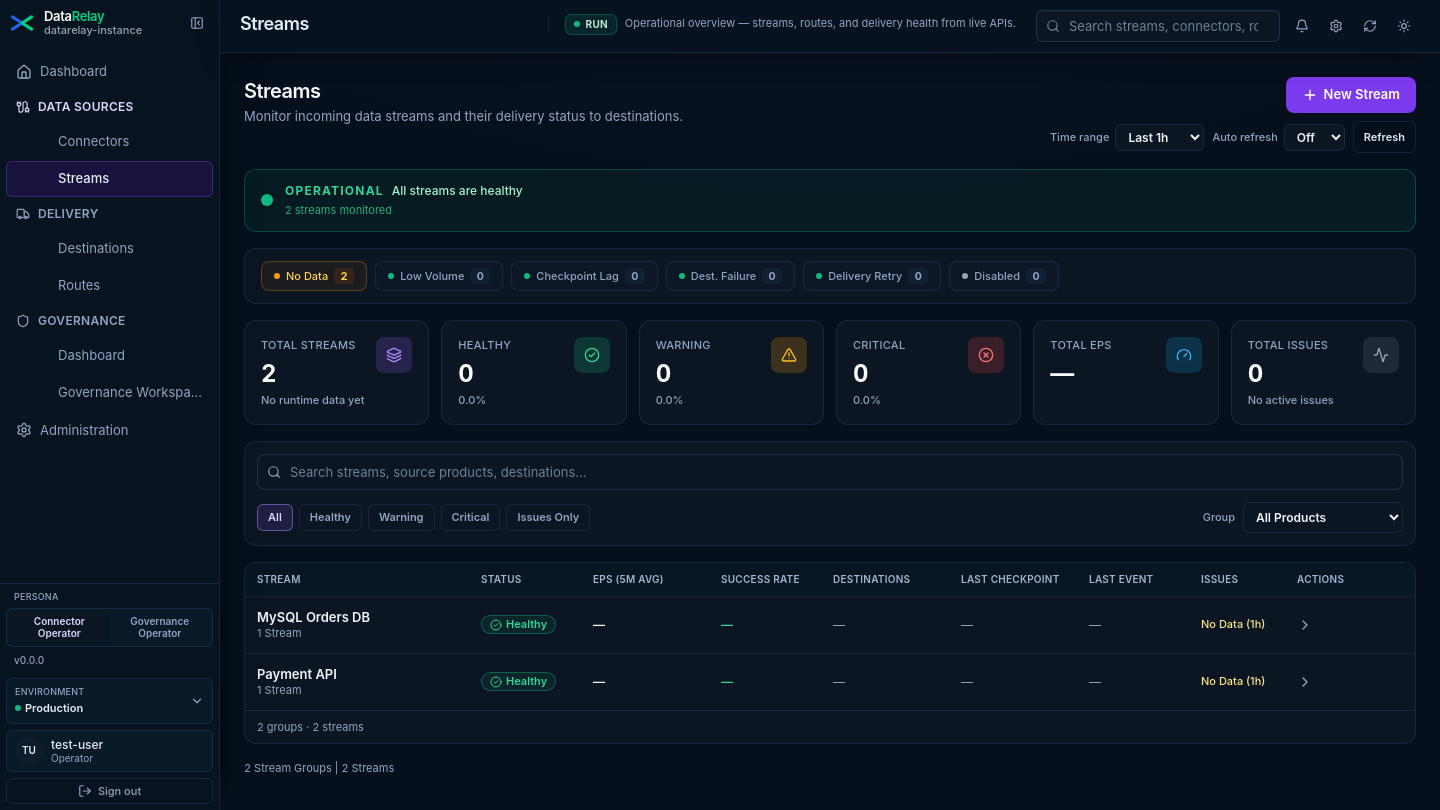
App shell (phase: sidebar, header, dashboard) › renders Dashboard when Dashboard is selected
Click the 1st button "Dashboard".
click(110, 72)  # box [6,54,213,90]
(page scrolled)
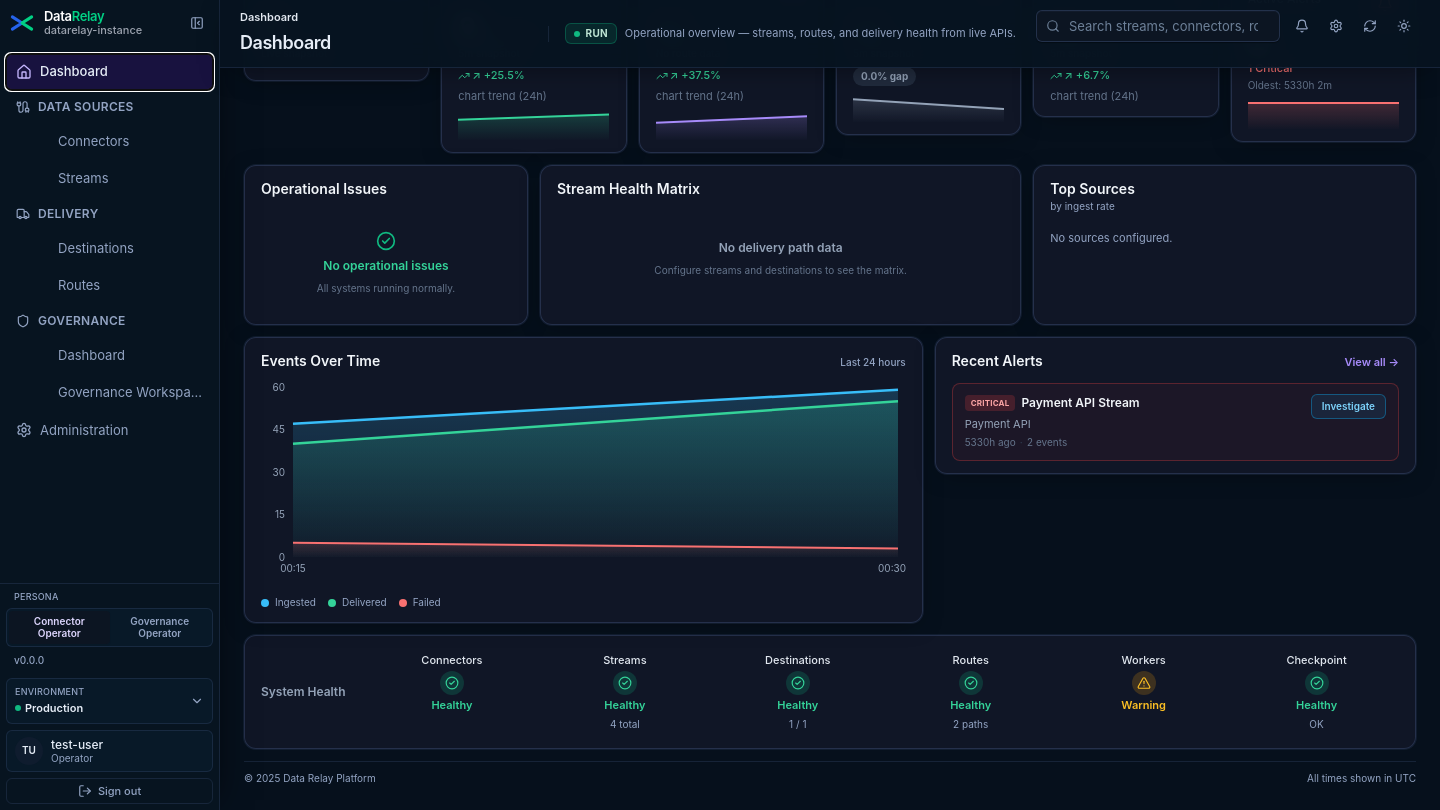
Expected: the element with test id "dashboard-recent-alerts" is shown, [935,337,1416,474]
